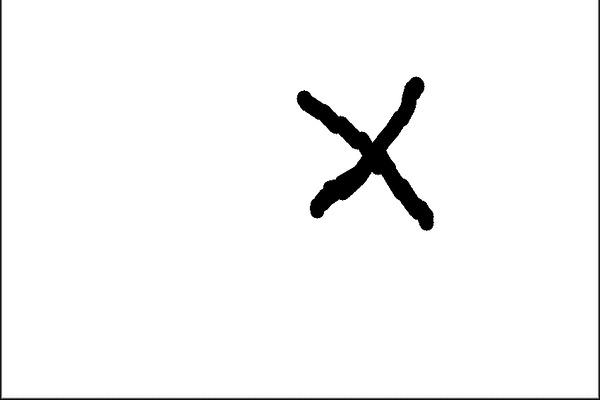X: (267, 56, 465, 240)
